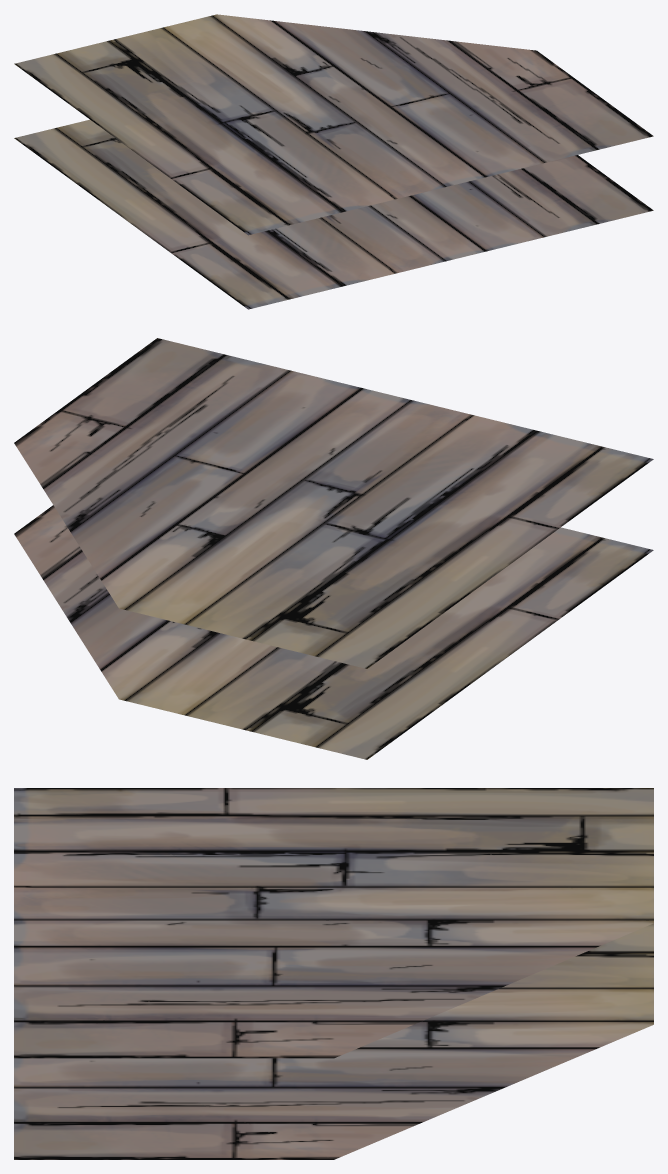
Rendered from Floor_Corner_90Degrees_nosides.fbx.
The picture shows the model from 3 angles, top to bottom: view 1: azimuth 30°, elevation 25°; view 2: azimuth 150°, elevation 25°; view 3: azimuth 270°, elevation 25°; orthographic projection. The views are drawn at different scales.
Parts seen in each view (by area): view 1: pCube410; view 2: pCube410; view 3: pCube410.
Part boxes in pixels (bbox=[...]): pCube410: bbox=[14, 14, 653, 309]; pCube410: bbox=[14, 338, 653, 759]; pCube410: bbox=[14, 788, 653, 1159].
Bounding box in the file's own units: 10 × 1.75 × 10.
